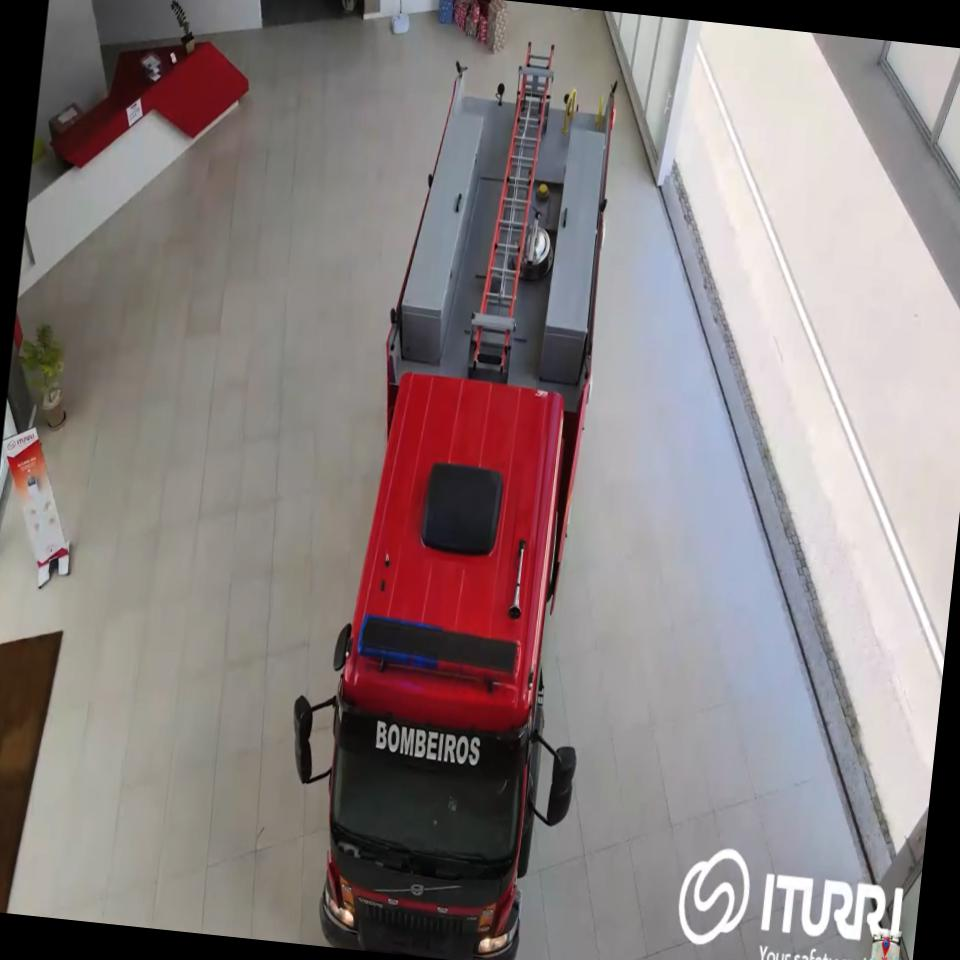viatura: (269, 18, 654, 960)
